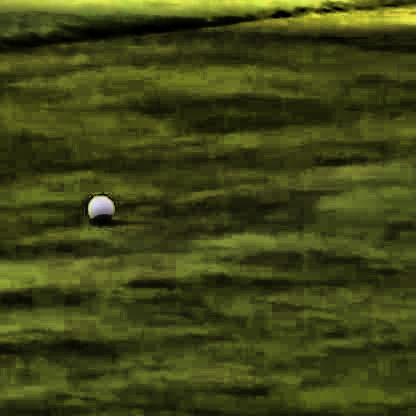golfball: (86, 191, 111, 219)
